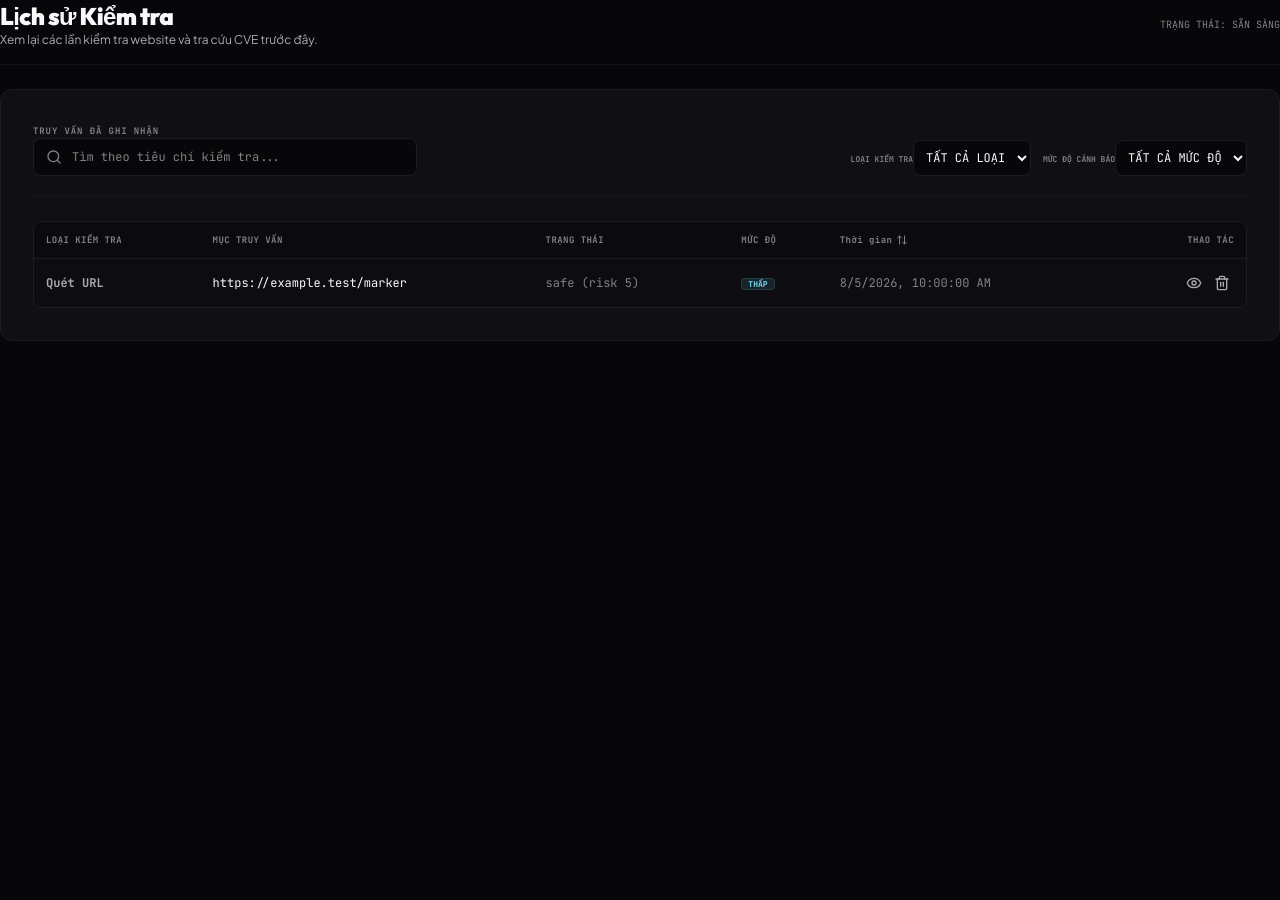
Test: Scan History detail view › shows a retryable error state when the detail fetch fails
Expected: the text "https://example.test/marker" is shown, x1=201 y1=258 x2=534 y2=307
Click the button titled "Xem chi tiết" at (1194, 283), box x1=1182 y1=271 x2=1206 y2=295
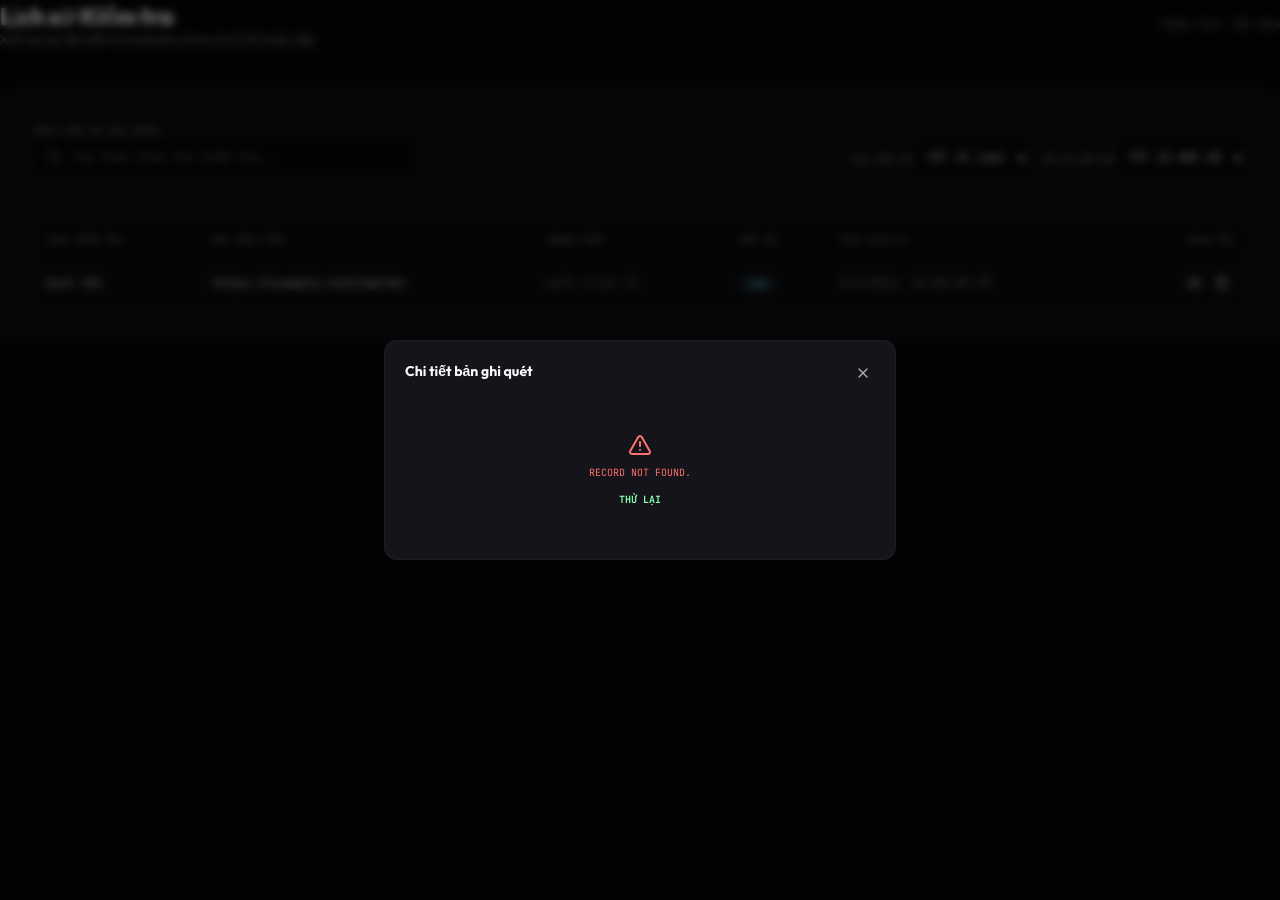
Result: the text "Record not found." is shown at x1=589 y1=465 x2=691 y2=480
Result: the button "Thử lại" is shown at x1=619 y1=492 x2=661 y2=507
